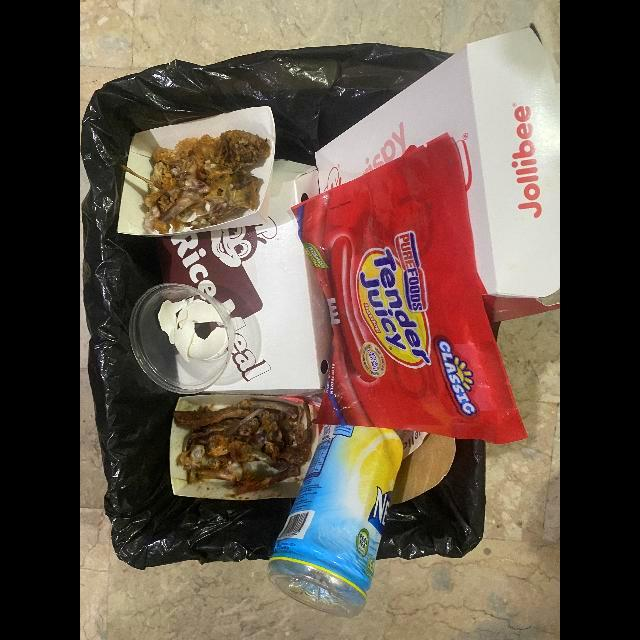cardboard: (317, 23, 560, 320), (161, 160, 334, 397)
food_wrapper: (293, 133, 528, 445)
left_over_food: (122, 131, 270, 236), (176, 398, 313, 496)
plastic_bottle: (267, 425, 406, 601)
